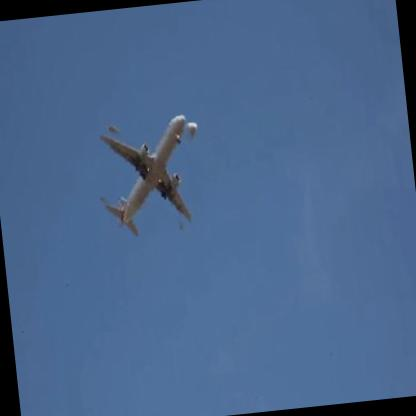plane: (87, 114, 213, 243)
